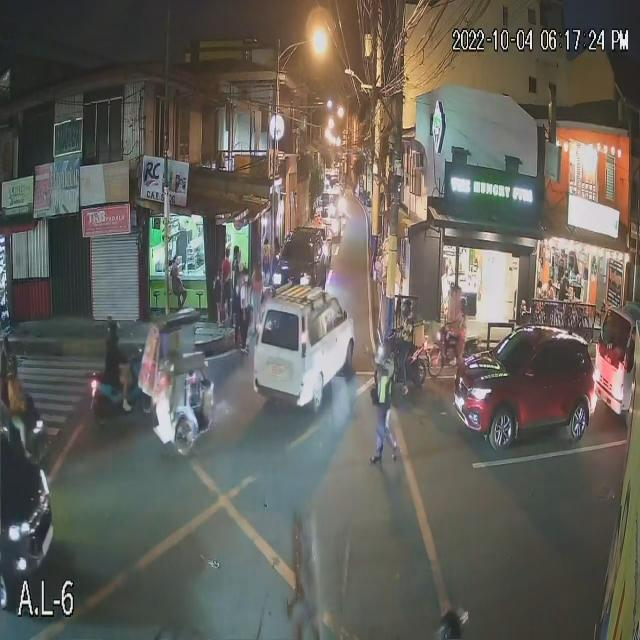helmet: (399, 298, 413, 313)
motorcycle: (88, 348, 154, 427), (382, 331, 431, 400), (0, 408, 56, 452)
rider: (103, 318, 139, 413), (438, 282, 466, 371), (6, 380, 26, 429)
